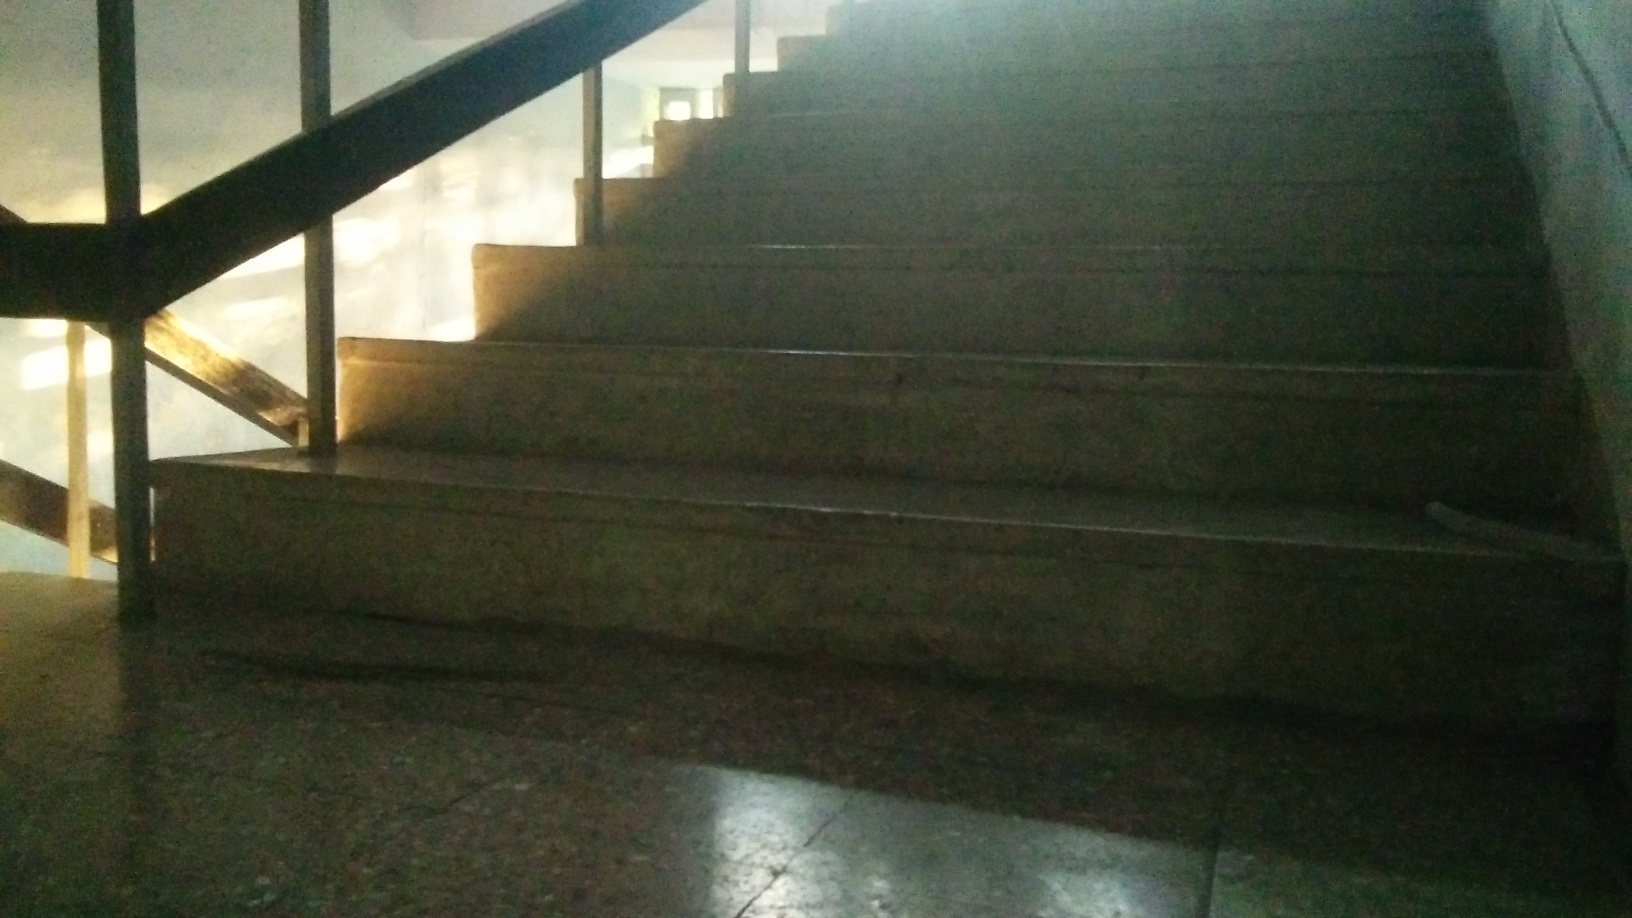stairs_up: (167, 17, 1543, 623)
